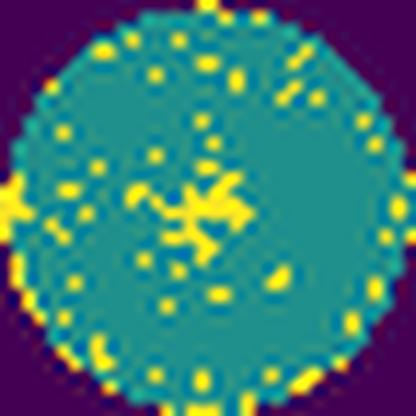Center: (127, 170, 256, 266)
